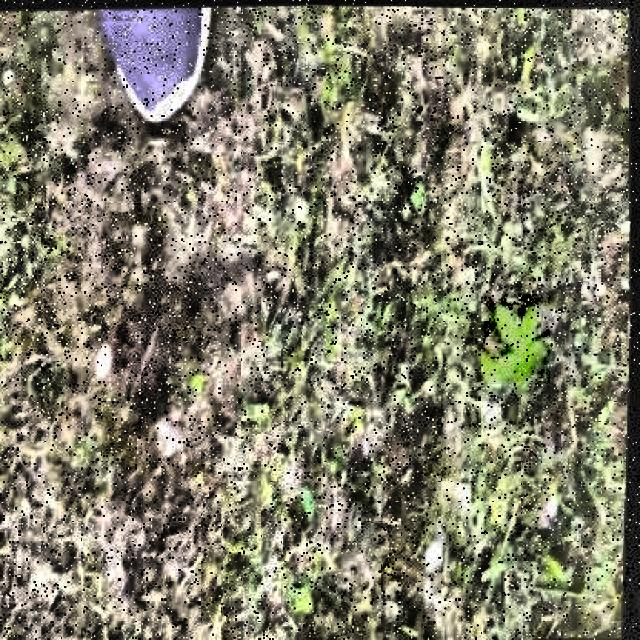Weeds: (484, 294, 550, 384)
